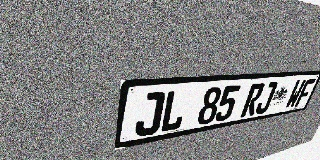5: (214, 85, 241, 122)
8: (196, 86, 224, 126)
F: (294, 79, 316, 107)
J: (134, 91, 166, 138), (254, 82, 278, 115)
L: (159, 89, 189, 133)
R: (240, 83, 266, 117)
W: (284, 79, 306, 109)
